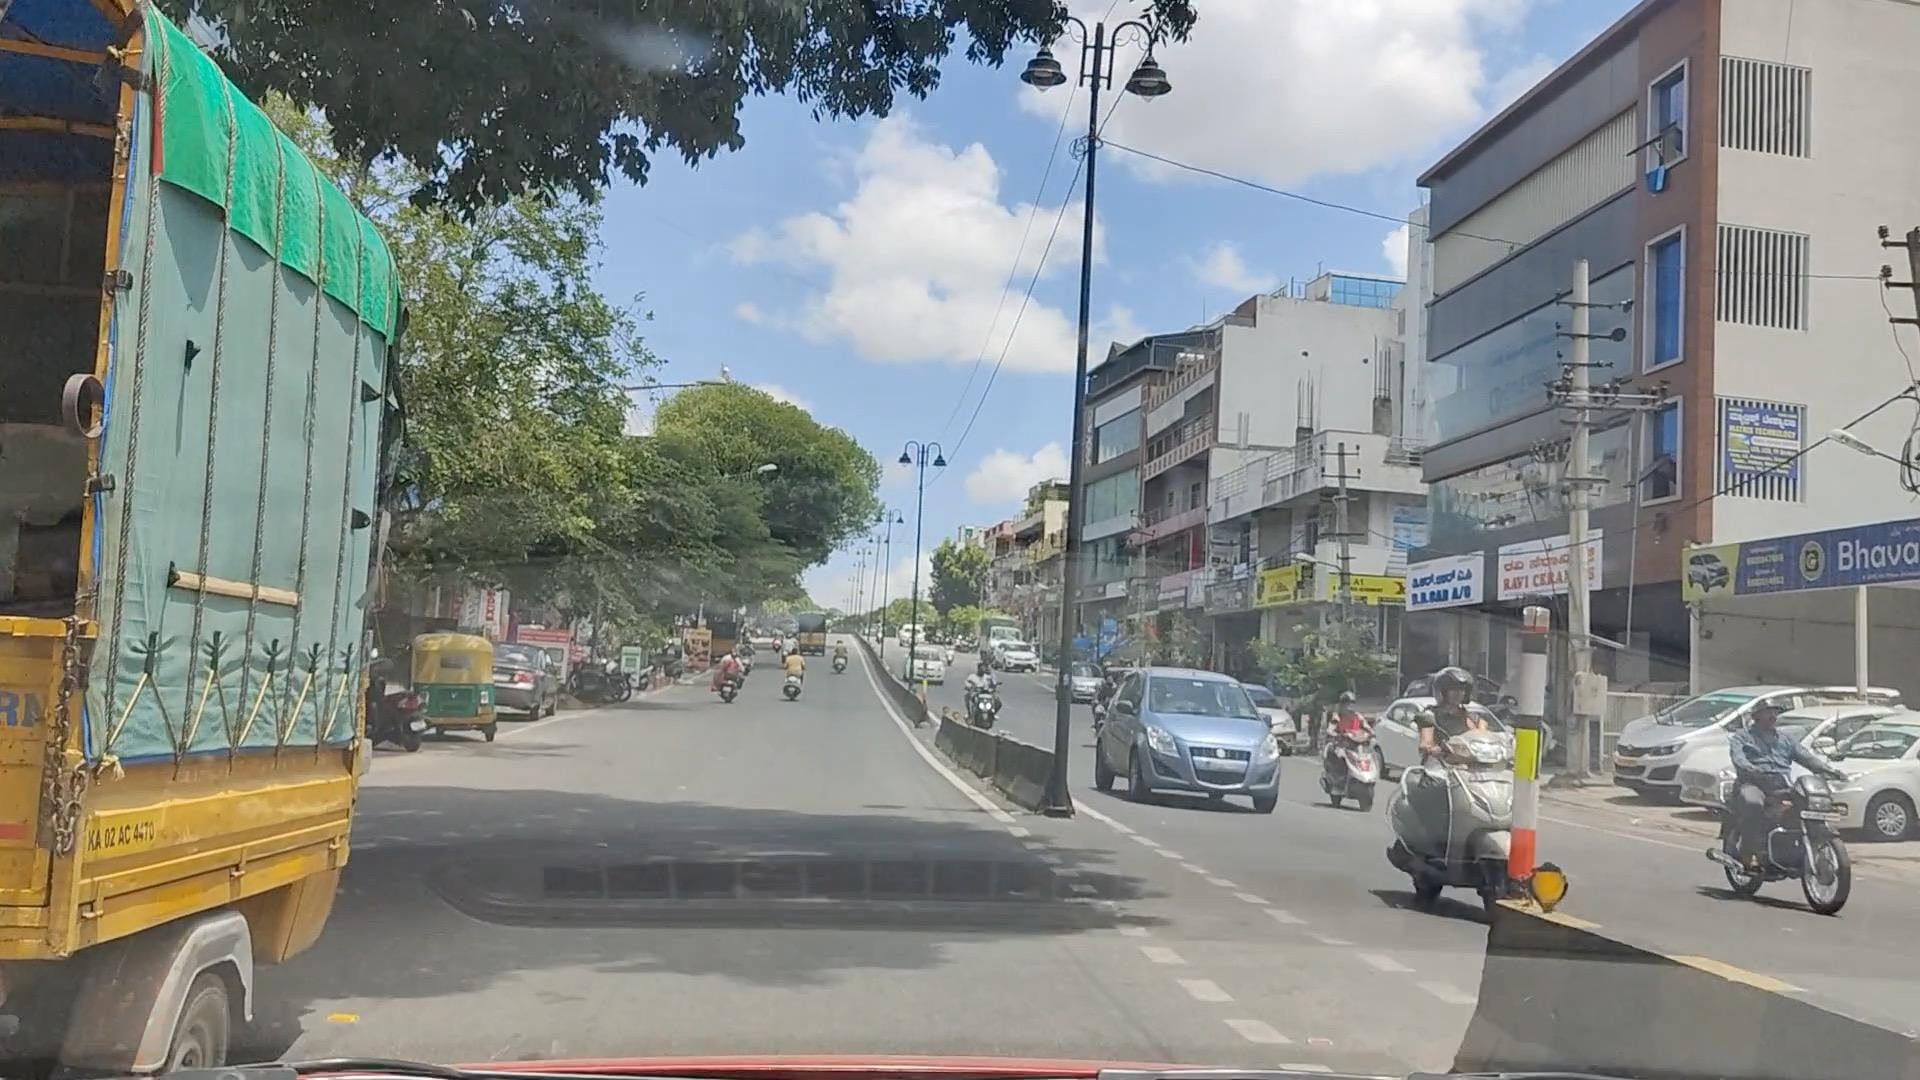LMV: (1113, 661, 1266, 804), (1410, 650, 1502, 880), (414, 630, 504, 741)
